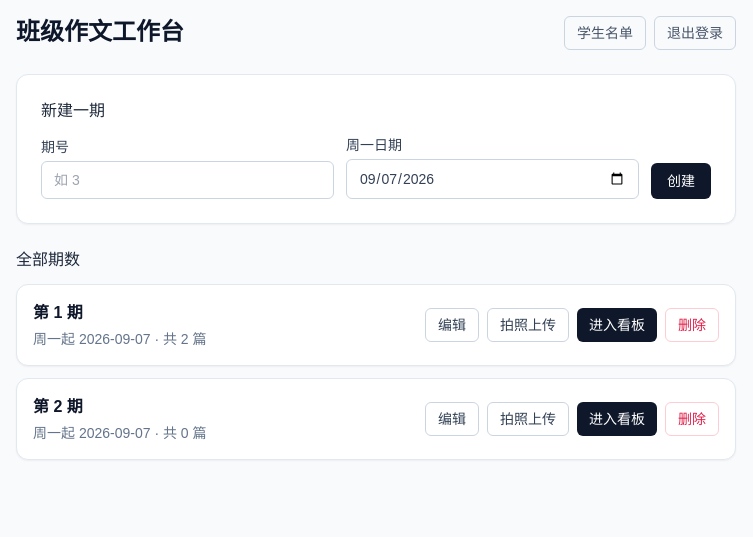
it: IssuePage 删除期数 › shows an error message when deletion fails
Expected: the text "第 1 期" is shown, x1=33 y1=304 x2=83 y2=321
Click the 1st button "删除": (692, 325) x1=665 y1=308 x2=719 y2=342
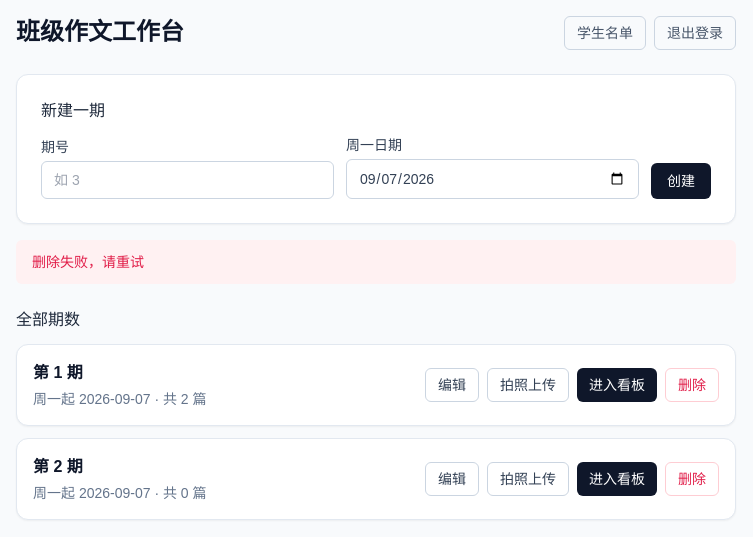
Result: the text "删除失败，请重试" is shown at x1=16 y1=240 x2=736 y2=284
